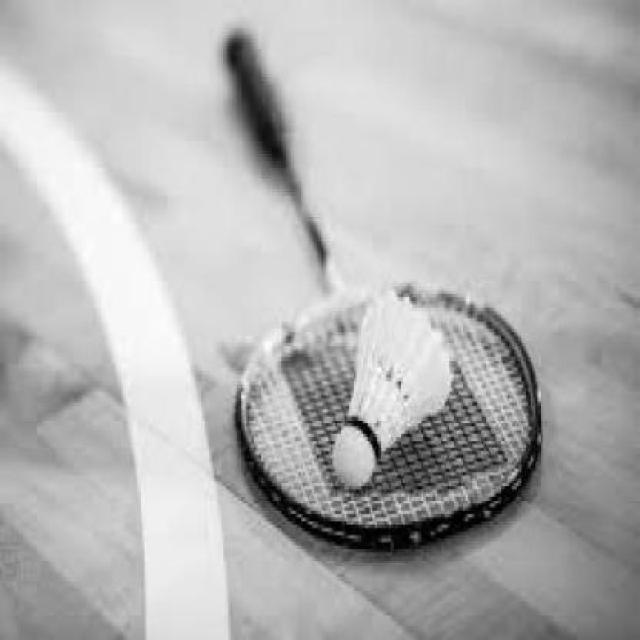Shuttlecock: (333, 285, 452, 488)
